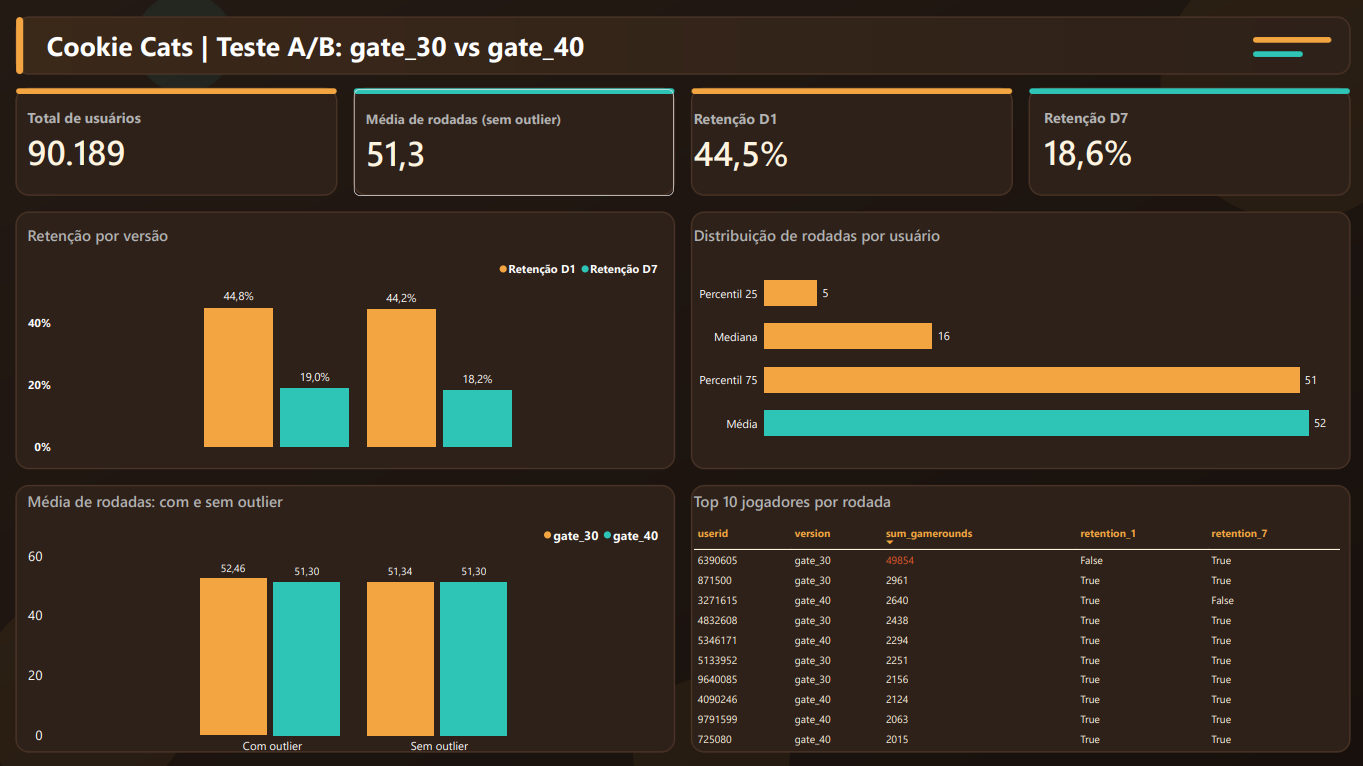

The dashboard page shown, as its layout file describes it:
{"tool":"powerbi","page":{"name":"Página 1","canvas":[1920,1080],"ordinal":0},"visuals":[{"type":"cardVisual","fields":{"Data":["CountNonNull(cookie_cats.userid)"]},"box":[23.5,124.9,448.8,146.6],"z":0},{"type":"textbox","box":[67,38,761.9,72.4],"z":1000},{"type":"cardVisual","fields":{"Data":["Estatística.Média Rodadas (sem outlier)"]},"box":[497.7,124.9,449,150],"z":2000},{"type":"cardVisual","fields":{"Data":["cookie_cats.Retenção D1"]},"box":[959.1,124.9,463.3,150.2],"z":3000},{"type":"cardVisual","fields":{"Data":["cookie_cats.Retenção D7"]},"box":[1451.3,123.1,449,150],"z":4000},{"type":"clusteredColumnChart","title":"Retenção por versão","fields":{"Category":["cookie_cats.version"],"Y":["cookie_cats.Retenção D1","cookie_cats.Retenção D7"]},"box":[23.5,302.2,922.9,352.9],"z":5000},{"type":"tableEx","title":"Top 10 jogadores por rodada","fields":{"Values":["cookie_cats.userid","cookie_cats.version","cookie_cats.sum_gamerounds","cookie_cats.retention_1","cookie_cats.retention_7"]},"box":[959.1,675,941,405.4],"z":5001},{"type":"clusteredColumnChart","title":"Média de rodadas: com e sem outlier","fields":{"Category":["Cenário.Cenário"],"Series":["cookie_cats.version"],"Y":["Estatística.Média Rodadas por Cenário"]},"box":[24,675,923,405],"z":5002},{"type":"barChart","title":"Distribuição de rodadas por usuário","fields":{"Category":["Estatística.Estatística"],"Y":["Estatística.Valor Estatística"]},"box":[959.1,302.2,941,352.9],"z":5003}]}

Visuals, with their boxes in screenshot pixels (x1, y1, x2, y2), scaled from the page's 1920x1080 canvas onto the 1363x766 screenshot:
cardVisual - CountNonNull(cookie_cats.userid): left=17, top=89, right=335, bottom=193
textbox: left=48, top=27, right=588, bottom=78
cardVisual - Estatística.Média Rodadas (sem outlier): left=353, top=89, right=672, bottom=195
cardVisual - cookie_cats.Retenção D1: left=681, top=89, right=1010, bottom=195
cardVisual - cookie_cats.Retenção D7: left=1030, top=87, right=1349, bottom=194
"Retenção por versão" clusteredColumnChart: left=17, top=214, right=672, bottom=465
"Top 10 jogadores por rodada" tableEx: left=681, top=479, right=1349, bottom=765
"Média de rodadas: com e sem outlier" clusteredColumnChart: left=17, top=479, right=672, bottom=765
"Distribuição de rodadas por usuário" barChart: left=681, top=214, right=1349, bottom=465
